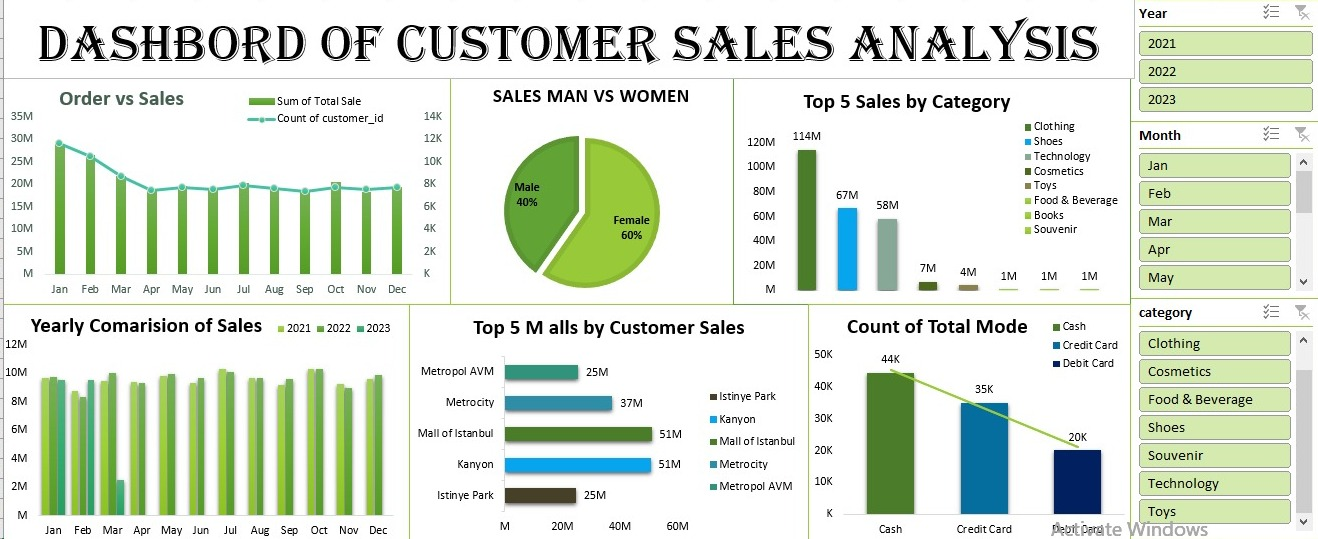

This screenshot's page, from the dashboard's own definition file:
{"tool":"powerbi","page":{"name":"Page 1","canvas":[1280,720],"ordinal":0},"visuals":[{"type":"shape","box":[0,0,322.4,720],"z":0},{"type":"textbox","box":[23.2,26.8,225.3,53.6],"z":1000},{"type":"image","box":[210.9,32.2,37.5,41.1],"z":2000},{"type":"shape","box":[322.4,0,947,43.4],"z":3000},{"type":"shape","box":[322.4,89.6,947,43.4],"z":4000},{"type":"textbox","box":[322.4,27.5,656.4,56.4],"z":5000},{"type":"textbox","box":[322.4,70.8,397.6,37.6],"z":6000},{"type":"image","box":[955.7,27.5,101.2,62.2],"z":7000},{"type":"shape","box":[780.7,108.4,30.4,611.6],"z":8000},{"type":"shape","box":[315.2,371.6,474.2,43.4],"z":9000},{"type":"clusteredColumnChart","title":"Count of Transactions for each Payment Method","fields":{"Series":["Customer Sales Data.payment_method"],"Y":["CountNonNull(Customer Sales Data.invoice_no)"],"Category":["Customer Sales Data.payment_method"]},"box":[322.4,414.9,458.3,294.9],"z":10000},{"type":"clusteredColumnChart","title":"Total Sale by Category","fields":{"Y":["Sum(Customer Sales Data.Total Sale)"],"Category":["Customer Sales Data.category"]},"box":[811.1,121.4,446.7,271.8],"z":11000},{"type":"lineChart","title":"Total Sale and Count of Order by Month","fields":{"Category":["Customer Sales Data.Month"],"Y":["Sum(Customer Sales Data.Total Sale)"],"Y2":["Count(Customer Sales Data.customer_id)"]},"box":[811.1,414.9,446.7,294.9],"z":12000},{"type":"card","fields":{"Values":["Count(Customer Sales Data.customer_id)"]},"box":[335.4,121.4,216.9,122.9],"z":13000},{"type":"card","fields":{"Values":["CountNonNull(Customer Sales Data.invoice_no)"]},"box":[563.9,121.4,216.9,122.9],"z":14000},{"type":"card","fields":{"Values":["Customer Sales Data.Average Order Value"]},"box":[563.9,251.6,216.9,128.7],"z":15000},{"type":"card","fields":{"Values":["Sum(Customer Sales Data.Total Sale)"]},"box":[335.4,257.3,216.9,122.9],"z":16000},{"type":"slicer","fields":{"Values":["Customer Sales Data.invoice_date.Variation.Date Hierarchy.Year"]},"box":[23.2,89.4,269.9,110.8],"z":17000},{"type":"slicer","fields":{"Values":["Customer Sales Data.invoice_date.Variation.Date Hierarchy.Month"]},"box":[23.2,216.3,269.9,100.1],"z":18000},{"type":"slicer","fields":{"Values":["Customer Sales Data.category"]},"box":[23.2,328.9,269.9,98.3],"z":19000},{"type":"slicer","fields":{"Values":["Customer Sales Data.payment_method"]},"box":[25,443.4,269.9,101.9],"z":20000},{"type":"slicer","fields":{"Values":["Customer Sales Data.shopping_mall"]},"box":[25,563.1,269.9,100.1],"z":21000},{"type":"image","box":[1142.2,31.8,95.4,73.7],"z":22000}]}

Visuals, with their boxes on the page's 1280x720 design canvas (x1, y1, x2, y2). These are canvas units, not pixel positions in the 1318x539 screenshot, which may show the page scaled, cropped or inside an application window:
shape: region(0, 0, 322, 720)
textbox: region(23, 27, 248, 80)
image: region(211, 32, 248, 73)
shape: region(322, 0, 1269, 43)
shape: region(322, 90, 1269, 133)
textbox: region(322, 28, 979, 84)
textbox: region(322, 71, 720, 108)
image: region(956, 28, 1057, 90)
shape: region(781, 108, 811, 720)
shape: region(315, 372, 789, 415)
"Count of Transactions for each Payment Method" clusteredColumnChart: region(322, 415, 781, 710)
"Total Sale by Category" clusteredColumnChart: region(811, 121, 1258, 393)
"Total Sale and Count of Order by Month" lineChart: region(811, 415, 1258, 710)
card - Count(Customer Sales Data.customer_id): region(335, 121, 552, 244)
card - CountNonNull(Customer Sales Data.invoice_no): region(564, 121, 781, 244)
card - Customer Sales Data.Average Order Value: region(564, 252, 781, 380)
card - Sum(Customer Sales Data.Total Sale): region(335, 257, 552, 380)
slicer - Customer Sales Data.invoice_date.Variation.Date Hierarchy.Year: region(23, 89, 293, 200)
slicer - Customer Sales Data.invoice_date.Variation.Date Hierarchy.Month: region(23, 216, 293, 316)
slicer - Customer Sales Data.category: region(23, 329, 293, 427)
slicer - Customer Sales Data.payment_method: region(25, 443, 295, 545)
slicer - Customer Sales Data.shopping_mall: region(25, 563, 295, 663)
image: region(1142, 32, 1238, 106)
